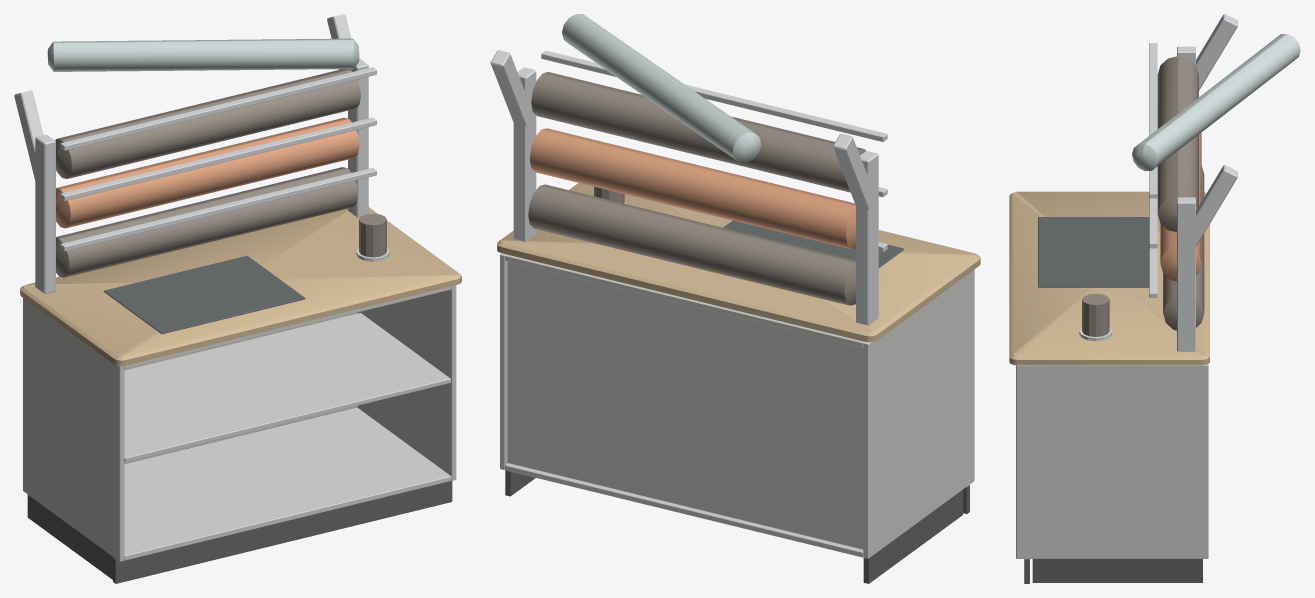
Rendered from garden-centre-and-florist-wrapping-station-214f9eef__17764.glb.
3 views of the same model, side by side, from view 1: azimuth 30°, elevation 25°; view 2: azimuth 150°, elevation 25°; view 3: azimuth 270°, elevation 25° (orthographic). The views are drawn at different scales.
Visible parts, largest first — view 1: wrapping-station; view 2: wrapping-station; view 3: wrapping-station.
Boxes of the visible parts, x1=… form: wrapping-station: x1=14, y1=14, x2=461, y2=583; wrapping-station: x1=490, y1=14, x2=980, y2=583; wrapping-station: x1=1009, y1=14, x2=1300, y2=583.
Bounding box in the file's own units: 1.44 × 1.69 × 1.06.
